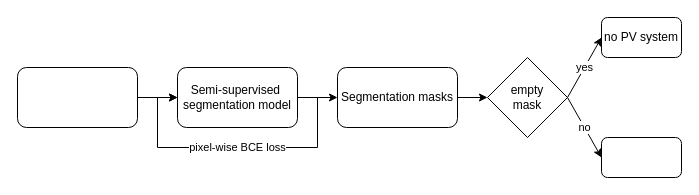
This 699x195 diagram has some shape labels left out. The shapes that lost their labels are listed below. From the top down, each one's box as (x1, y1, x2, y2) in pixels, then its label:
(16, 66, 138, 128): Dataset Solar + empty
(600, 136, 682, 178): PV system
